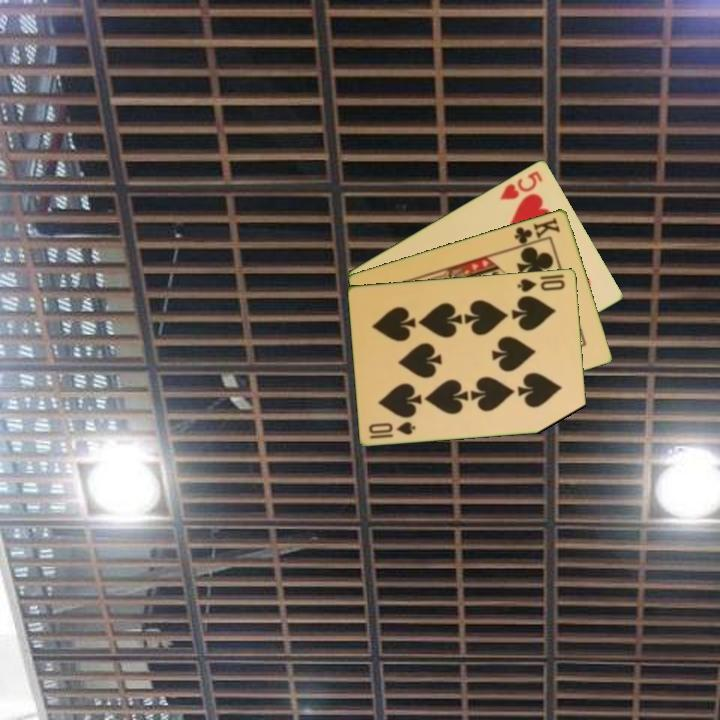10s: (365, 418, 419, 441), (514, 275, 568, 294)
5h: (496, 167, 546, 202)
Kc: (510, 213, 563, 250)
